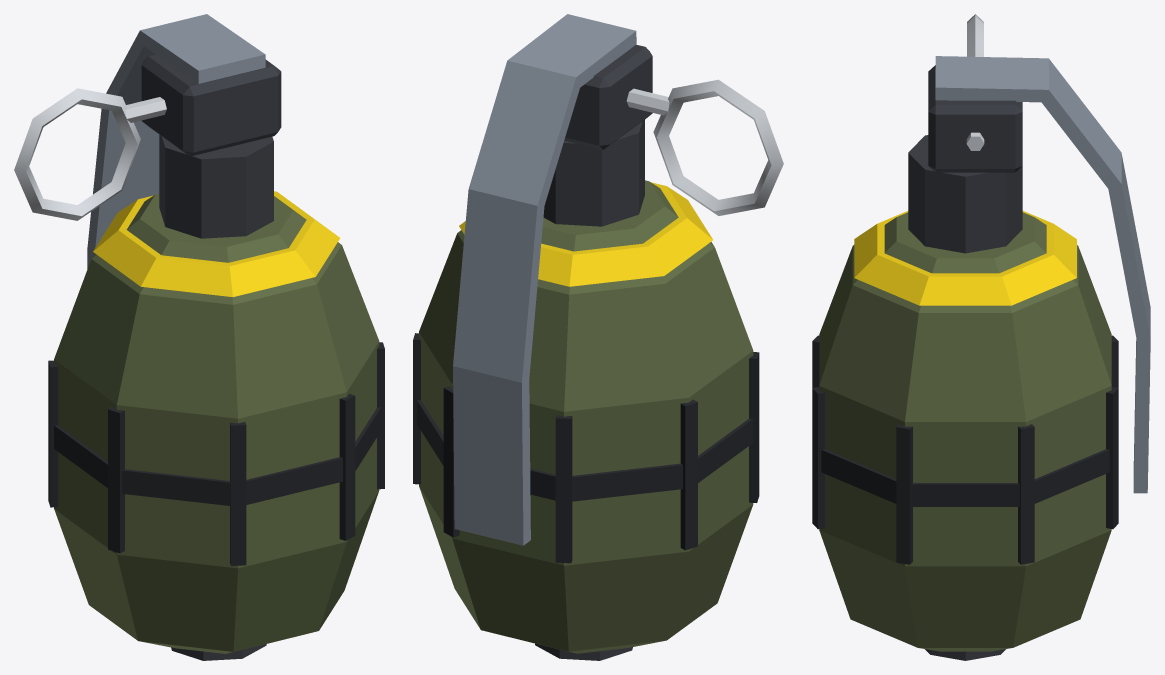
File: grenade.glb
3 views of the same model, side by side, from view 1: azimuth 30°, elevation 25°; view 2: azimuth 150°, elevation 25°; view 3: azimuth 270°, elevation 25° (orthographic). The views are drawn at different scales.
Parts seen in each view (by area): view 1: Body; view 2: Body; view 3: Body.
Part boxes in pixels (x1,y1,x2,y2): Body: [14, 14, 384, 660]; Body: [413, 14, 783, 660]; Body: [812, 14, 1150, 660].
Bounding box in the file's own units: 0.075 × 0.1259 × 0.068.
